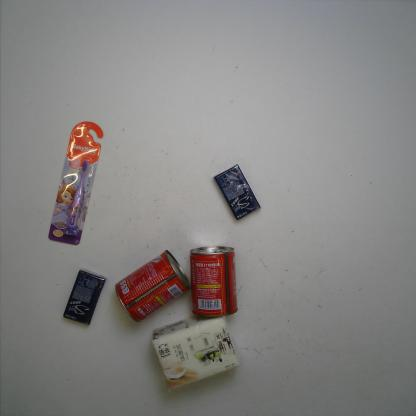Canned Food: (113, 250, 191, 322), (188, 245, 238, 318)
Gum: (213, 162, 261, 222), (62, 269, 106, 326)
Personal Hygiene: (47, 121, 104, 246)
Tissue: (150, 315, 240, 392)
